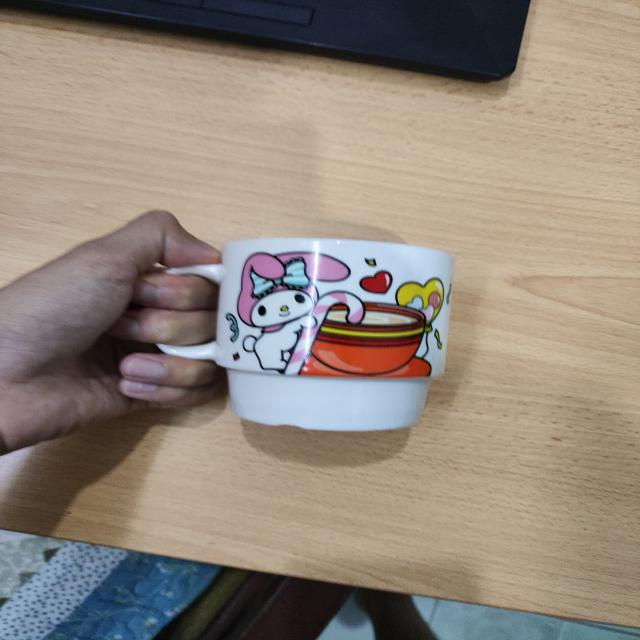cup: (140, 228, 468, 446)
